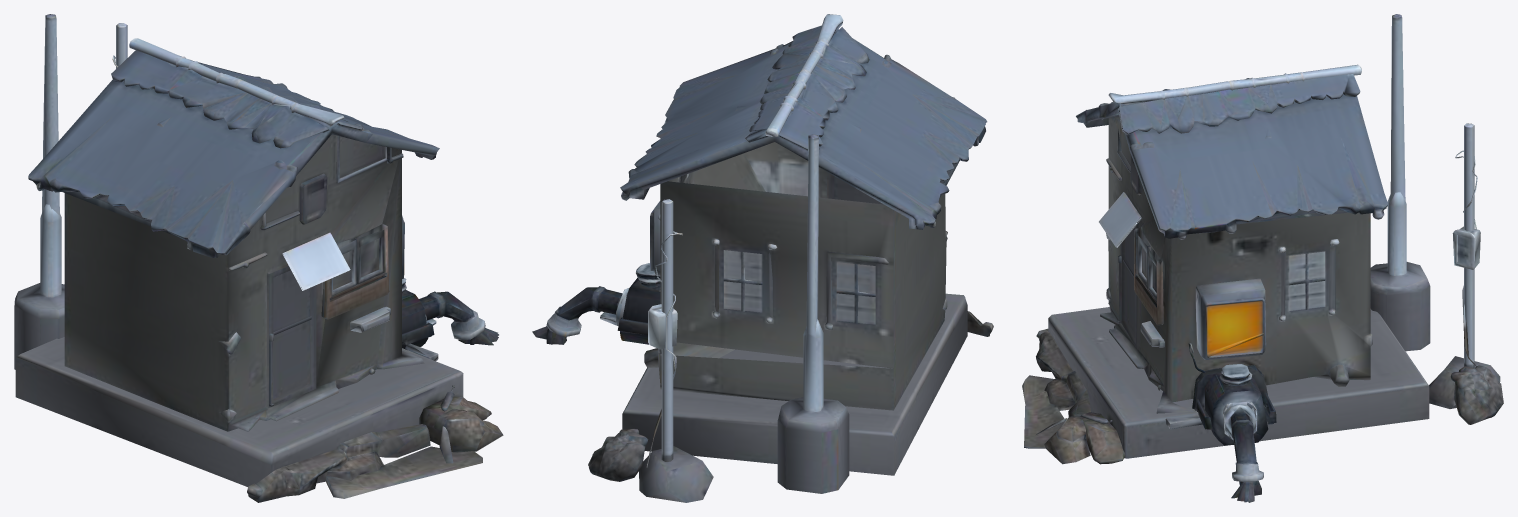
Rendered from micro_hydro.glb.
3 views of the same model, side by side, from view 1: azimuth 30°, elevation 25°; view 2: azimuth 150°, elevation 25°; view 3: azimuth 270°, elevation 25° (orthographic). The views are drawn at different scales.
Visible parts, largest first — view 1: Body; view 2: Body; view 3: Body.
Boxes of the visible parts, x1,y1,x2,y2 form: Body: (14,14,503,502); Body: (532,14,993,502); Body: (1022,14,1503,502).
Size of the model in its own units: 9.25 by 7.19 by 9.48.
1 material, 1 textured.
